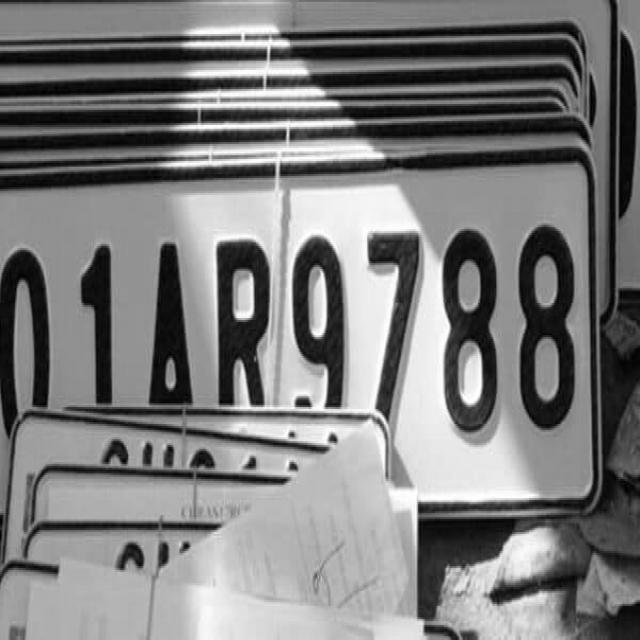License_Plate: (0, 184, 595, 511)
